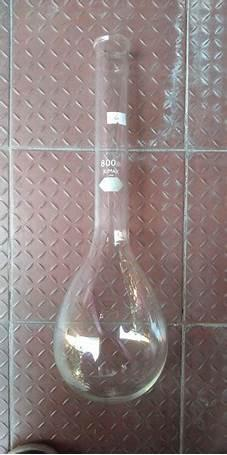Volumetric flask: (50, 23, 172, 402)
